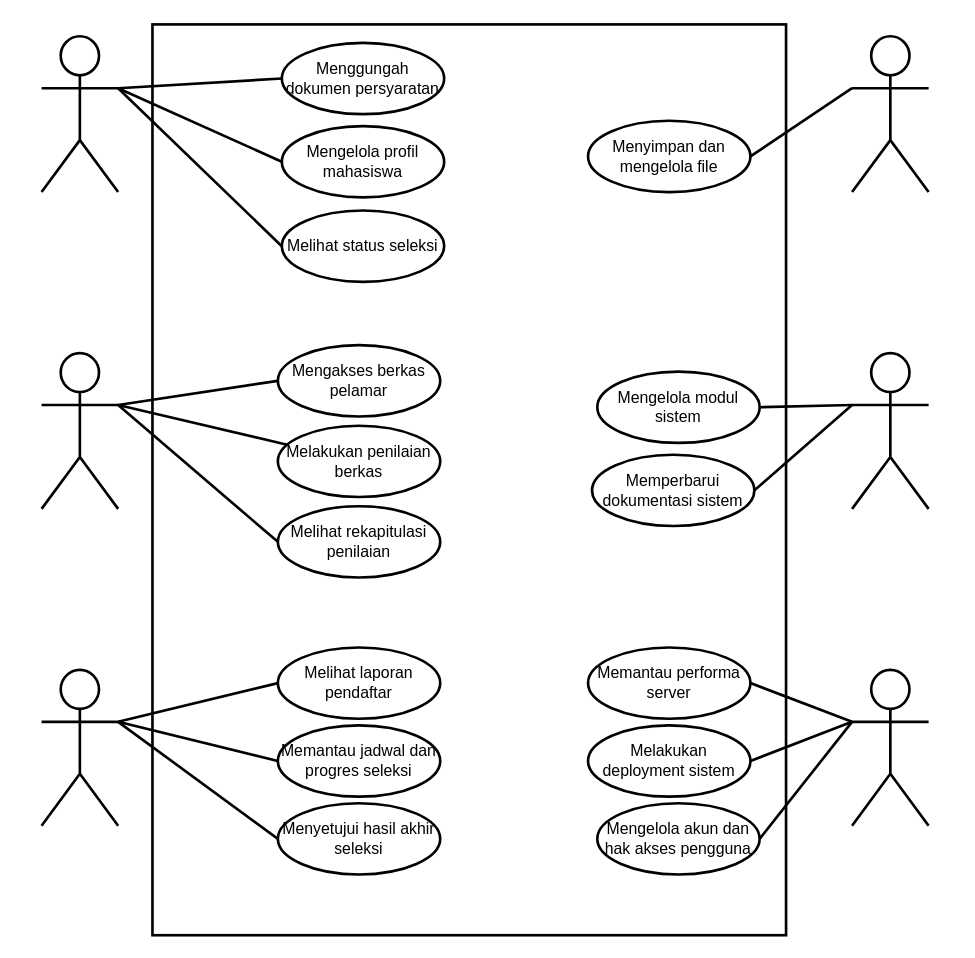
The diagram is 975 pixels wide and 958 high, and some of its shapes have lost their labels. The centre of each missing label's shape, as x and y in pixels:
Direktur kemahasiswaan: (79,747)
Mahasiswa: (79,113)
Penyediaan cloud storage: (889,113)
Sofware engineer: (889,430)
System administrator: (889,747)
Tim penilai (reviewer): (79,430)
